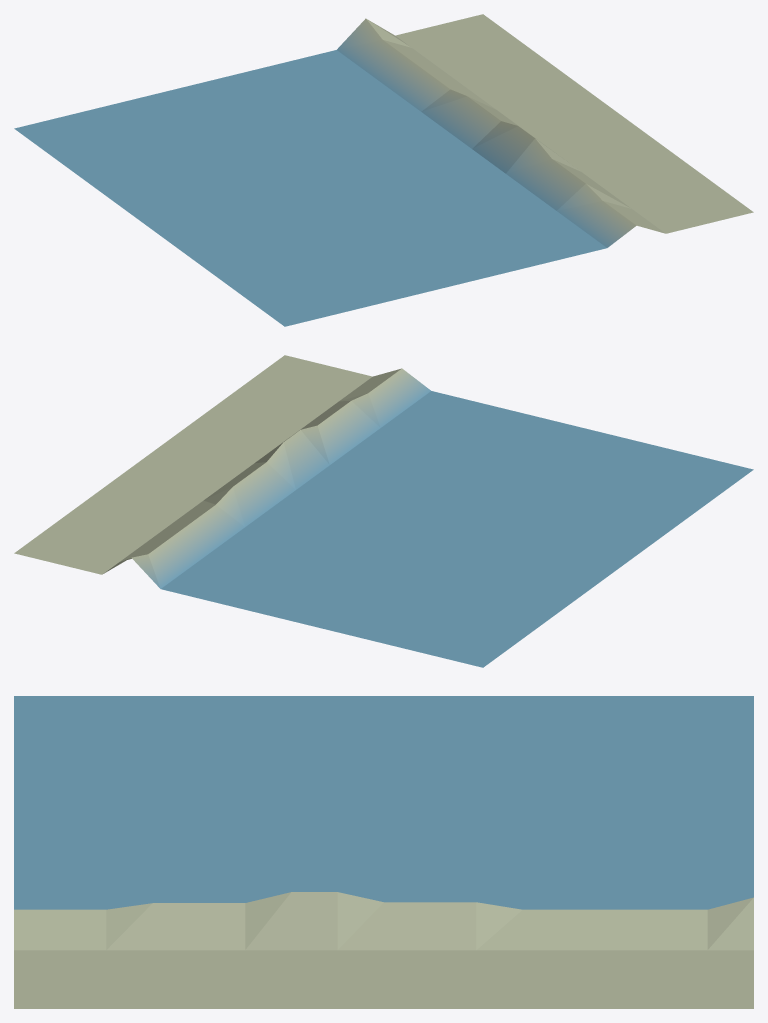
3 views of the same model, one above another, from view 1: azimuth 30°, elevation 25°; view 2: azimuth 150°, elevation 25°; view 3: azimuth 270°, elevation 25° (orthographic). The views are drawn at different scales.
Bounding box in the file's own units: 32 × 1.84 × 32.
